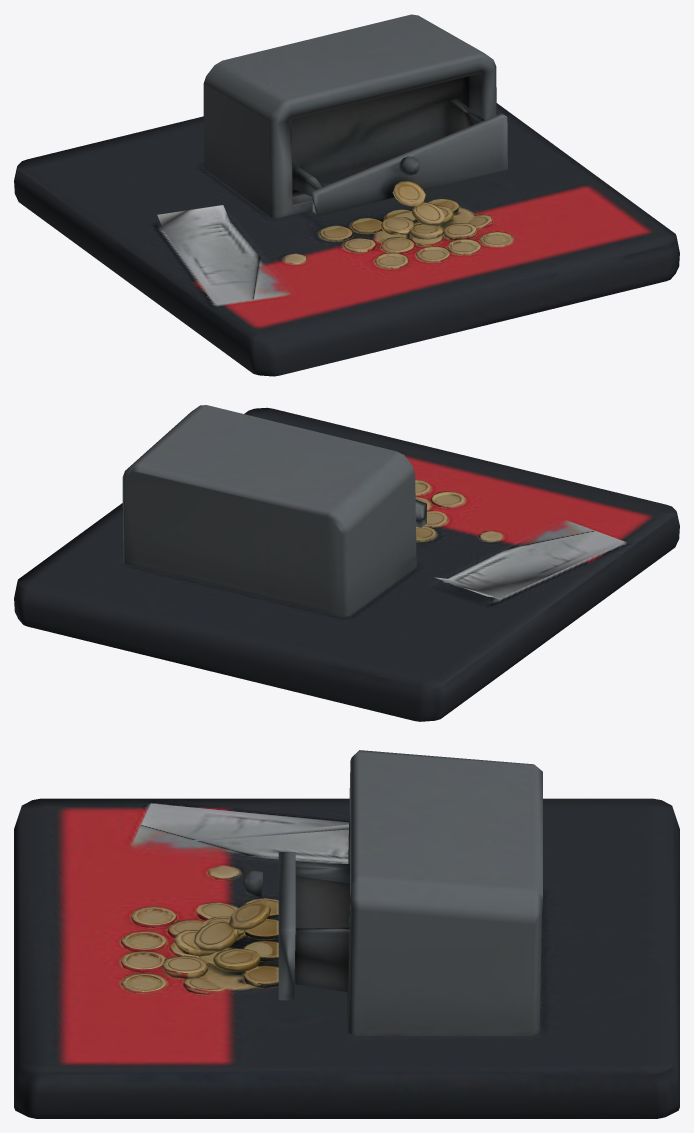
Rendered from payroll.glb.
3 views of the same model, one above another, from view 1: azimuth 30°, elevation 25°; view 2: azimuth 150°, elevation 25°; view 3: azimuth 270°, elevation 25° (orthographic). The views are drawn at different scales.
Visible parts, largest first — view 1: tripo_node_4eb81683-8908-485f-8977-6c87f0cf0e2f; view 2: tripo_node_4eb81683-8908-485f-8977-6c87f0cf0e2f; view 3: tripo_node_4eb81683-8908-485f-8977-6c87f0cf0e2f.
Part boxes in pixels (box(x1,y1,x2,y2)): tripo_node_4eb81683-8908-485f-8977-6c87f0cf0e2f: box(14, 14, 679, 376); tripo_node_4eb81683-8908-485f-8977-6c87f0cf0e2f: box(14, 405, 679, 721); tripo_node_4eb81683-8908-485f-8977-6c87f0cf0e2f: box(14, 750, 679, 1118).
Bounding box in the file's own units: 0.9863 × 0.3223 × 0.998.
Materials: 1 (1 with a texture image).
